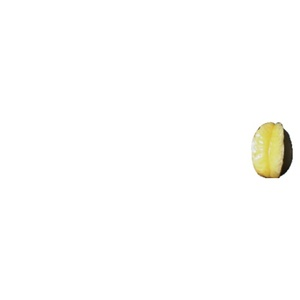carambola: (252, 122, 293, 179)
